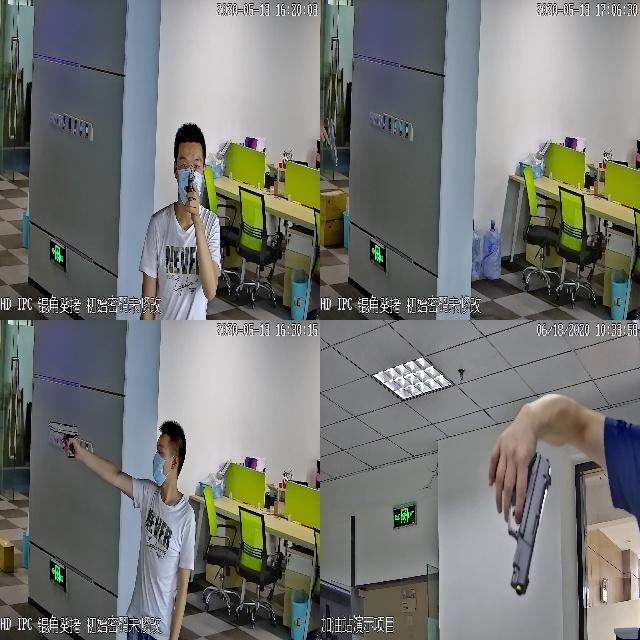gun-knife-thesis - v11 Yolov5 augmented: (485, 438, 548, 592), (45, 417, 79, 462), (319, 113, 338, 167), (186, 162, 196, 212)
